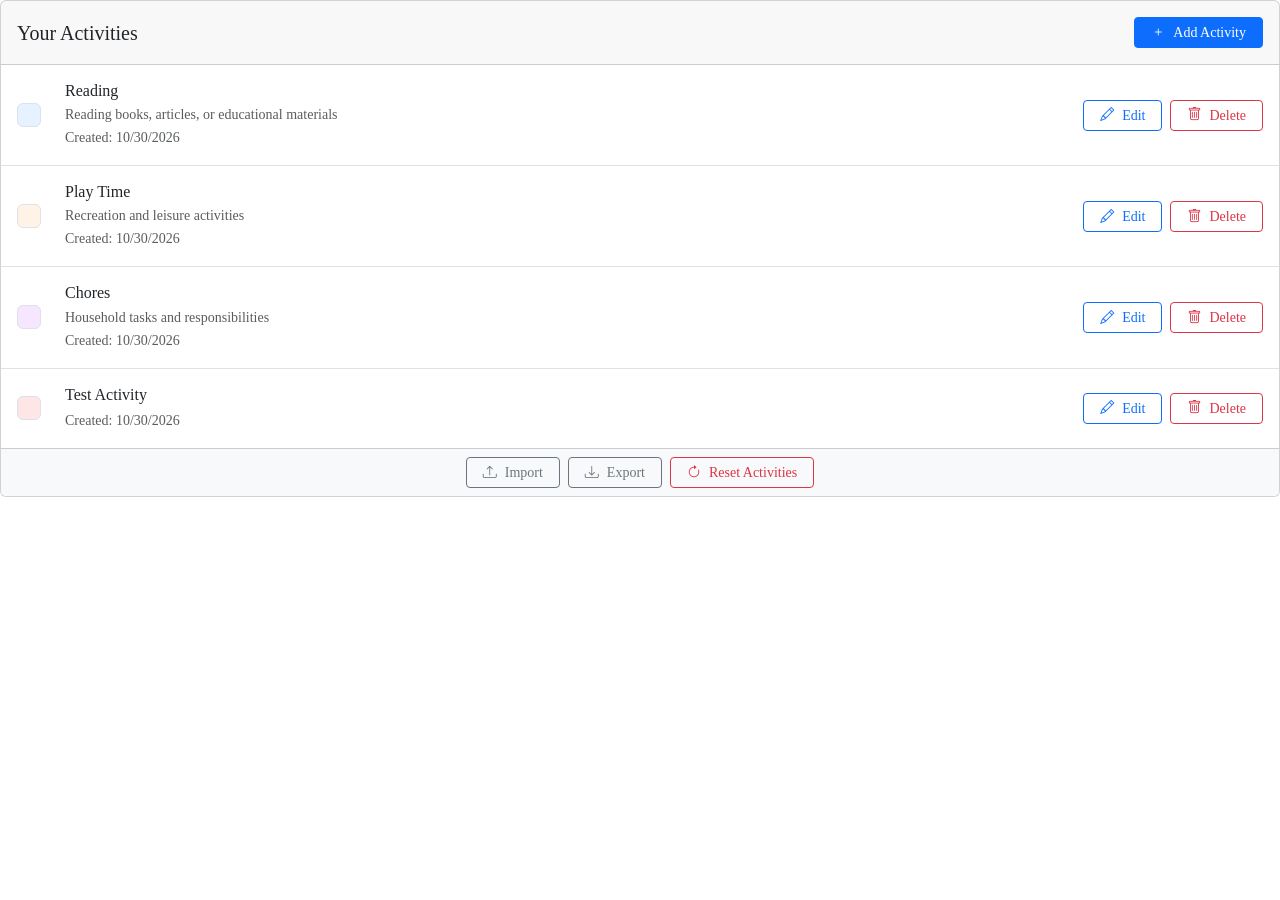
Test case: ActivityCrud › handles special characters in activity names
Click the button "Add Activity" at (1199, 32), box [1134,17,1263,48]
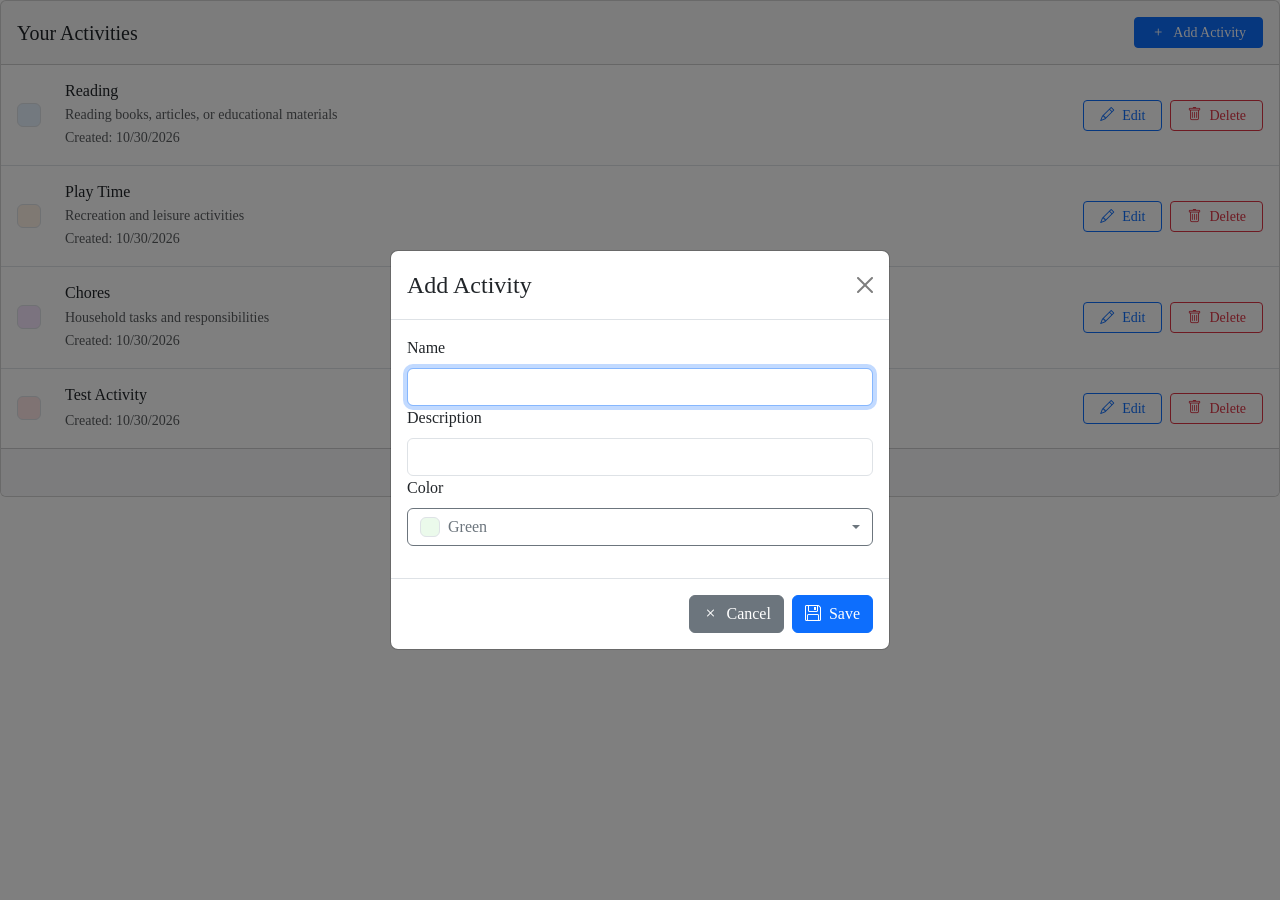
Type "Test @#$%^&*()_+ Activity" into the field labelled "Name" at (640, 387), box [407,368,873,406]
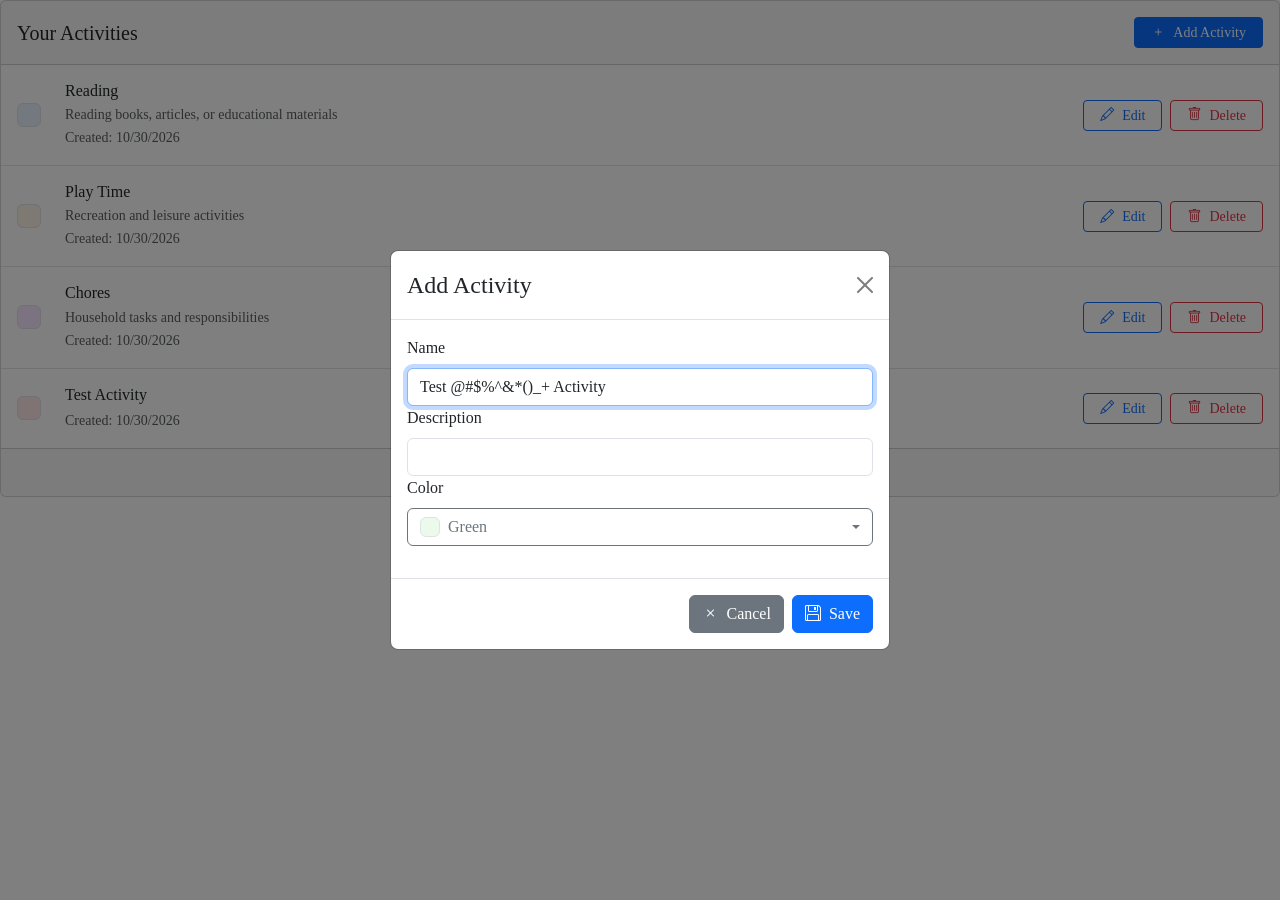
Click the button "Save" at (832, 614), box [792,595,873,633]
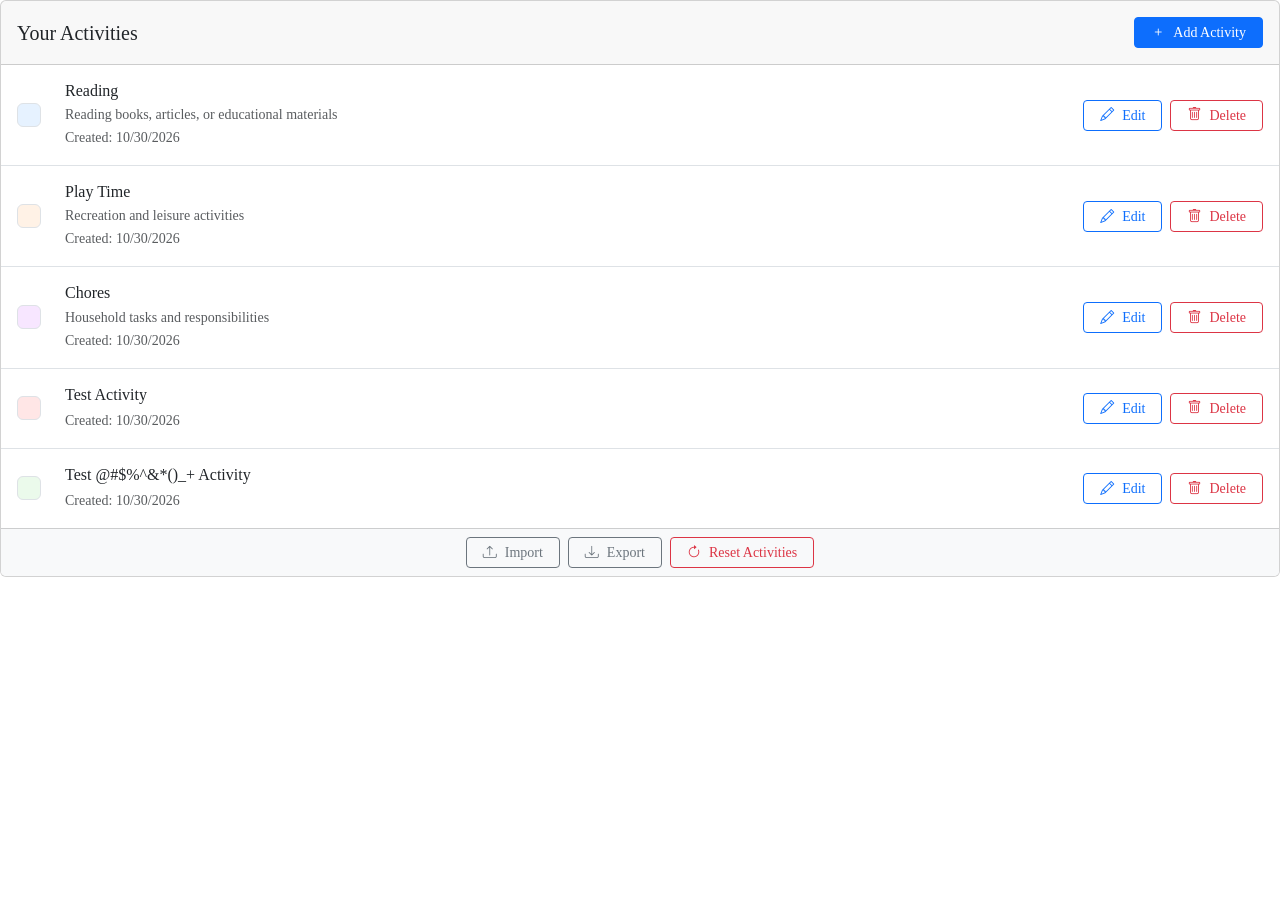
Now the heading "Test @#$%^&*()_+ Activity" is shown, box [65,465,251,484]
